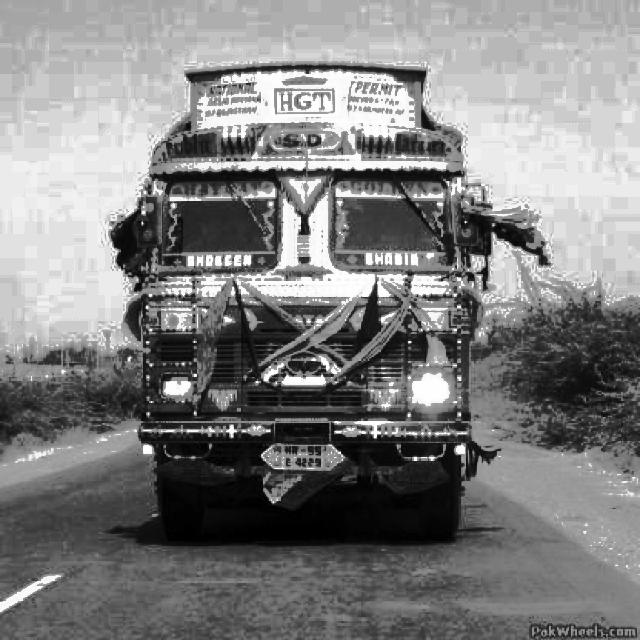HCV: (151, 73, 466, 524)
